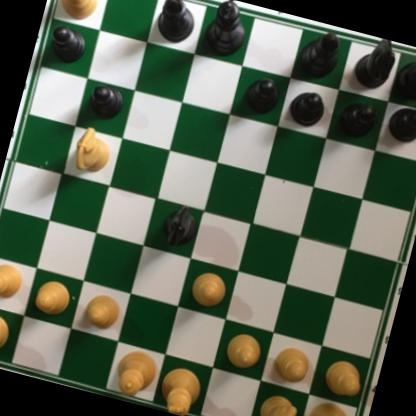black-bishop: (294, 22, 344, 81), (153, 0, 203, 43)
black-king: (199, 0, 251, 60)
black-knight: (352, 35, 400, 94), (158, 196, 202, 251)
black-pawn: (43, 22, 90, 68), (237, 71, 283, 118), (335, 97, 379, 143), (82, 81, 127, 125), (285, 87, 329, 131), (384, 102, 416, 147)
black-rook: (389, 45, 416, 107)
white-bishop: (48, 0, 107, 26)
white-king: (151, 360, 205, 416)
white-knight: (67, 122, 117, 179), (251, 390, 304, 416)
white-pawn: (219, 326, 266, 373), (320, 355, 367, 401), (80, 289, 127, 334), (31, 275, 77, 319), (269, 344, 314, 388), (186, 269, 231, 312), (0, 260, 27, 303)
white-queen: (107, 342, 161, 403)
white-rook: (299, 395, 359, 416), (0, 304, 16, 363)
